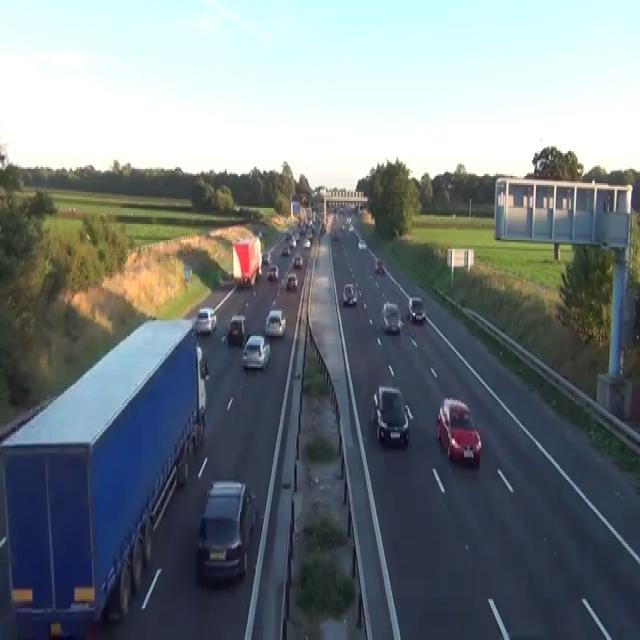Car: (196, 480, 256, 583), (436, 397, 481, 468), (372, 384, 409, 446), (241, 332, 270, 370), (195, 345, 209, 421), (380, 302, 403, 334), (264, 309, 286, 338), (226, 315, 246, 345), (196, 306, 217, 334), (406, 295, 426, 324), (195, 345, 209, 379), (342, 282, 357, 306), (267, 263, 279, 281), (286, 272, 297, 290), (374, 258, 383, 274), (293, 254, 303, 267), (380, 300, 389, 313), (262, 251, 270, 265), (357, 238, 366, 249), (281, 245, 290, 256), (333, 231, 339, 244), (303, 238, 310, 249), (284, 231, 292, 240), (289, 237, 296, 247), (320, 222, 326, 233), (305, 230, 312, 238), (294, 231, 299, 242), (257, 228, 262, 238), (68, 206, 76, 212), (346, 215, 351, 224), (340, 222, 345, 230), (348, 224, 353, 231), (333, 236, 337, 244)
Truck: (0, 315, 209, 638), (232, 236, 262, 286)
